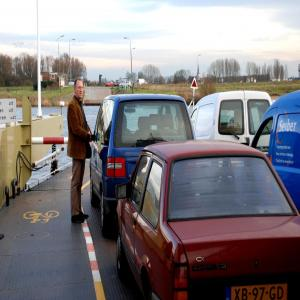Vehicle-registration-plate: (226, 284, 288, 300)
